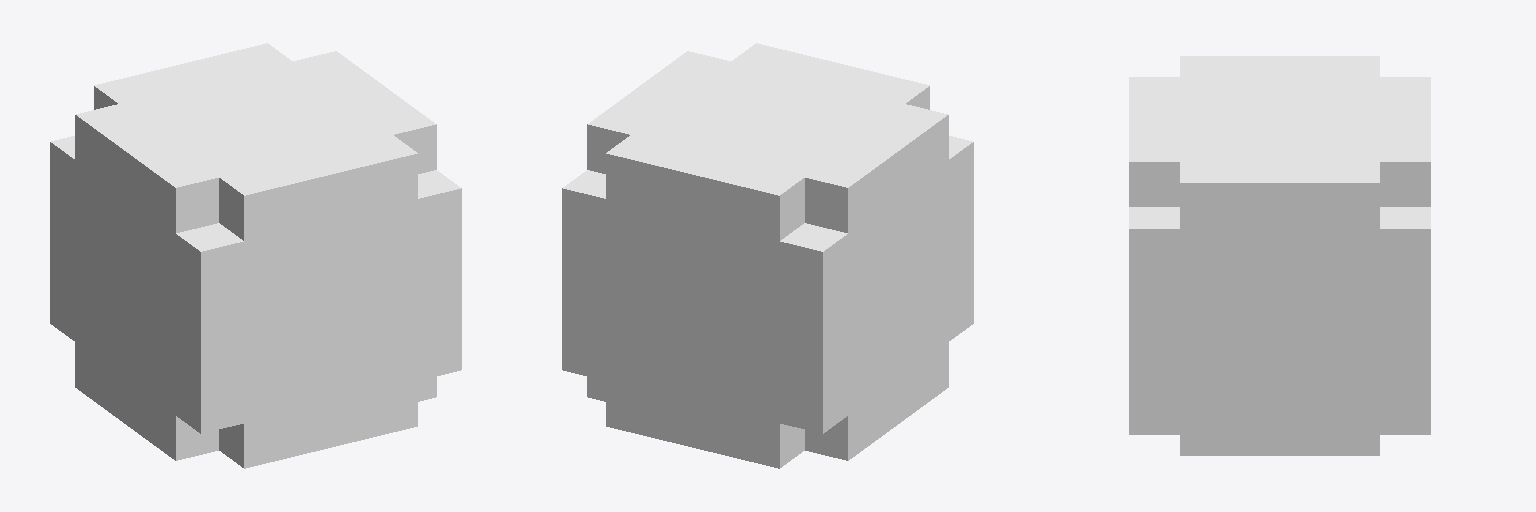
The model's file is CutStone.obj.
The picture shows the model from 3 angles: view 1: azimuth 30°, elevation 25°; view 2: azimuth 150°, elevation 25°; view 3: azimuth 270°, elevation 25°; orthographic projection.
Parts seen in each view (by area): view 1: object 1; view 2: object 1; view 3: object 1.
Part boxes in pixels (x1,y1,x2,y2): object 1: (50, 43, 461, 468); object 1: (562, 43, 973, 468); object 1: (1129, 56, 1430, 455).
Size of the model in its own units: 0.6 by 0.6 by 0.6.